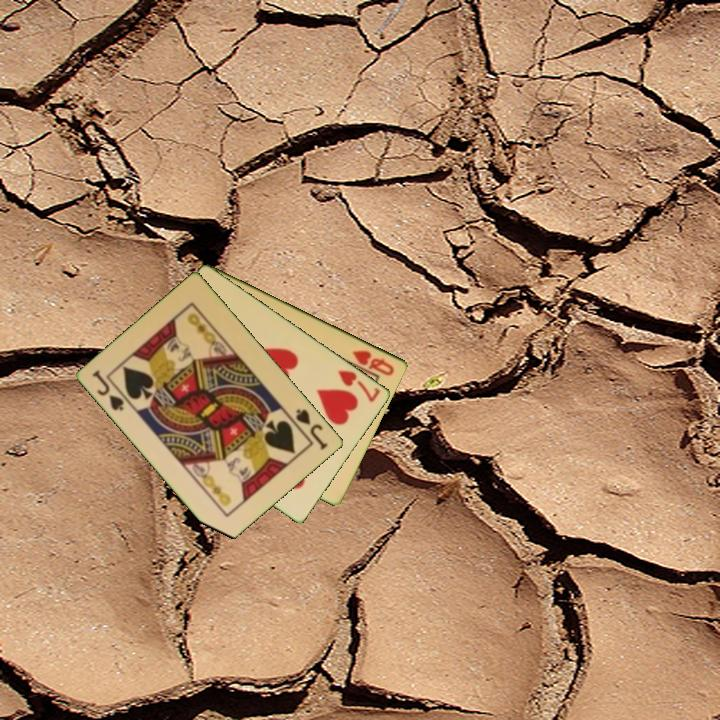7h: (334, 366, 384, 405)
Js: (89, 366, 133, 414), (293, 405, 331, 453)
Qh: (349, 347, 398, 379)
